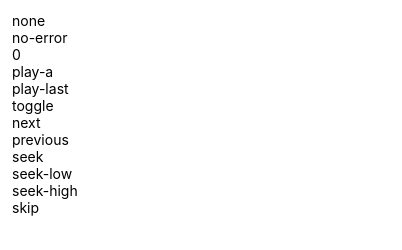
Test: FanPerformancePlayerProvider › streams the offline error after a corrupt local file is discarded
Click the element with test id "play-a": (33, 72) x1=12 y1=63 x2=53 y2=80
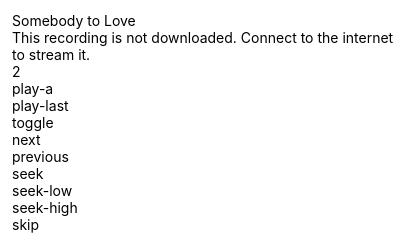
Check: the text with test id "error" reads "This recording is not downloaded. Connect to the internet to stream it.", box x1=12 y1=29 x2=397 y2=63
